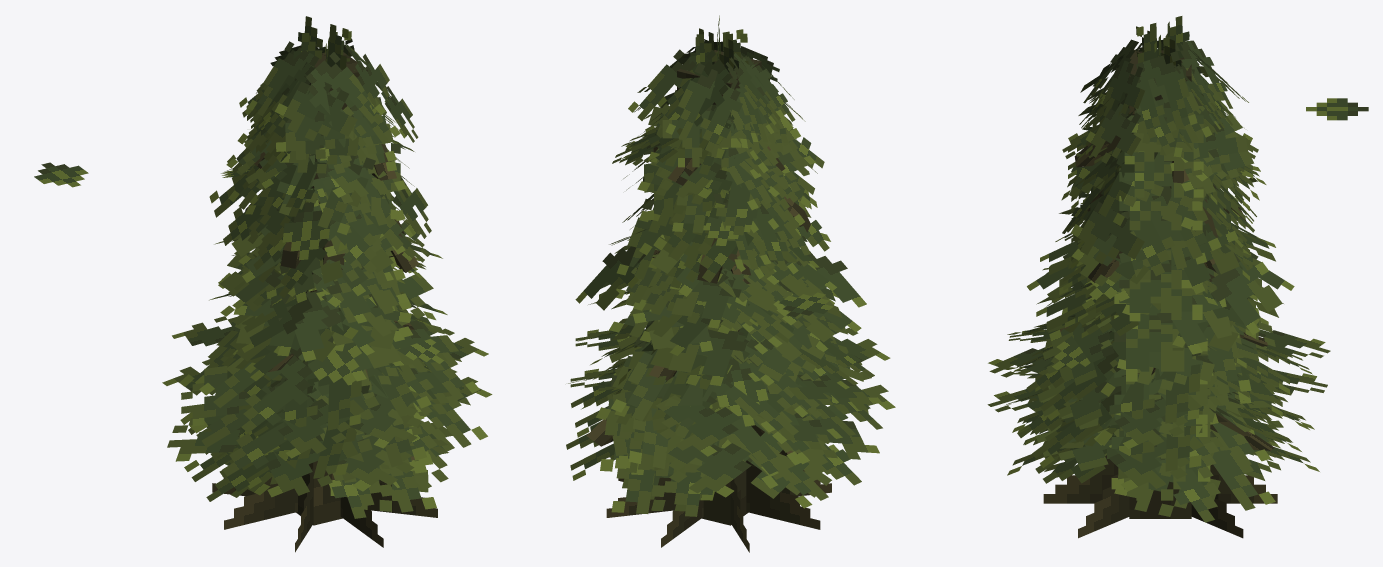
Rendered from Tree.fbx.
3 renders of one model, left to right at view 1: azimuth 30°, elevation 25°; view 2: azimuth 150°, elevation 25°; view 3: azimuth 270°, elevation 25°, orthographic.
Visible parts, largest first — view 1: plane_144, plane_379, plane_440, plane_298, plane_217, plane_302, plane_350, plane_343, plane_241, plane_288, plane_300, plane (+53 smaller); view 2: plane_410, plane_398, plane_51, plane_49, plane_396, plane, plane_439, plane_60, plane_48, plane_381, plane_386, plane_137 (+76 smaller); view 3: plane_365, plane_426, plane_216, plane_315, plane_169, plane_292, plane_205, plane_363, plane_306, plane_197, plane_361, plane_196 (+64 smaller).
Boxes of the visible parts, x1=… form: plane_144: x1=199, y1=355, x2=312, y2=432; plane_379: x1=191, y1=377, x2=313, y2=476; plane_440: x1=275, y1=81, x2=357, y2=140; plane_298: x1=275, y1=350, x2=362, y2=439; plane_217: x1=306, y1=52, x2=385, y2=140; plane_302: x1=276, y1=145, x2=375, y2=234; plane_350: x1=331, y1=455, x2=436, y2=518; plane_343: x1=266, y1=435, x2=358, y2=497; plane_241: x1=327, y1=201, x2=412, y2=273; plane_288: x1=317, y1=365, x2=431, y2=433; plane_300: x1=278, y1=399, x2=364, y2=458; plane: x1=224, y1=477, x2=297, y2=529; plane_410: x1=665, y1=63, x2=742, y2=152; plane_398: x1=665, y1=435, x2=751, y2=497; plane_51: x1=656, y1=395, x2=740, y2=456; plane_49: x1=611, y1=340, x2=726, y2=438; plane_396: x1=611, y1=468, x2=712, y2=516; plane: x1=746, y1=460, x2=820, y2=529; plane_439: x1=672, y1=171, x2=757, y2=235; plane_60: x1=668, y1=325, x2=747, y2=385; plane_48: x1=653, y1=198, x2=753, y2=282; plane_381: x1=780, y1=413, x2=879, y2=459; plane_386: x1=726, y1=406, x2=827, y2=488; plane_137: x1=706, y1=358, x2=821, y2=443; plane_365: x1=1155, y1=433, x2=1275, y2=522; plane_426: x1=1134, y1=51, x2=1197, y2=138; plane_216: x1=1109, y1=353, x2=1200, y2=430; plane_315: x1=1211, y1=252, x2=1282, y2=334; plane_169: x1=1125, y1=186, x2=1221, y2=276; plane_292: x1=1070, y1=201, x2=1144, y2=263; plane_205: x1=1114, y1=315, x2=1184, y2=378; plane_363: x1=1109, y1=428, x2=1203, y2=491; plane_306: x1=1042, y1=323, x2=1114, y2=385; plane_197: x1=1157, y1=294, x2=1237, y2=354; plane_361: x1=1106, y1=406, x2=1202, y2=479; plane_196: x1=1119, y1=263, x2=1192, y2=321.
Size of the model in its own units: 325 by 387 by 299.
Materials: 1 (1 with a texture image).
